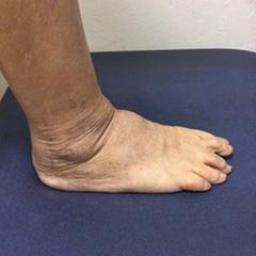Lateral View -Right Foot-: (6, 92, 234, 210)
